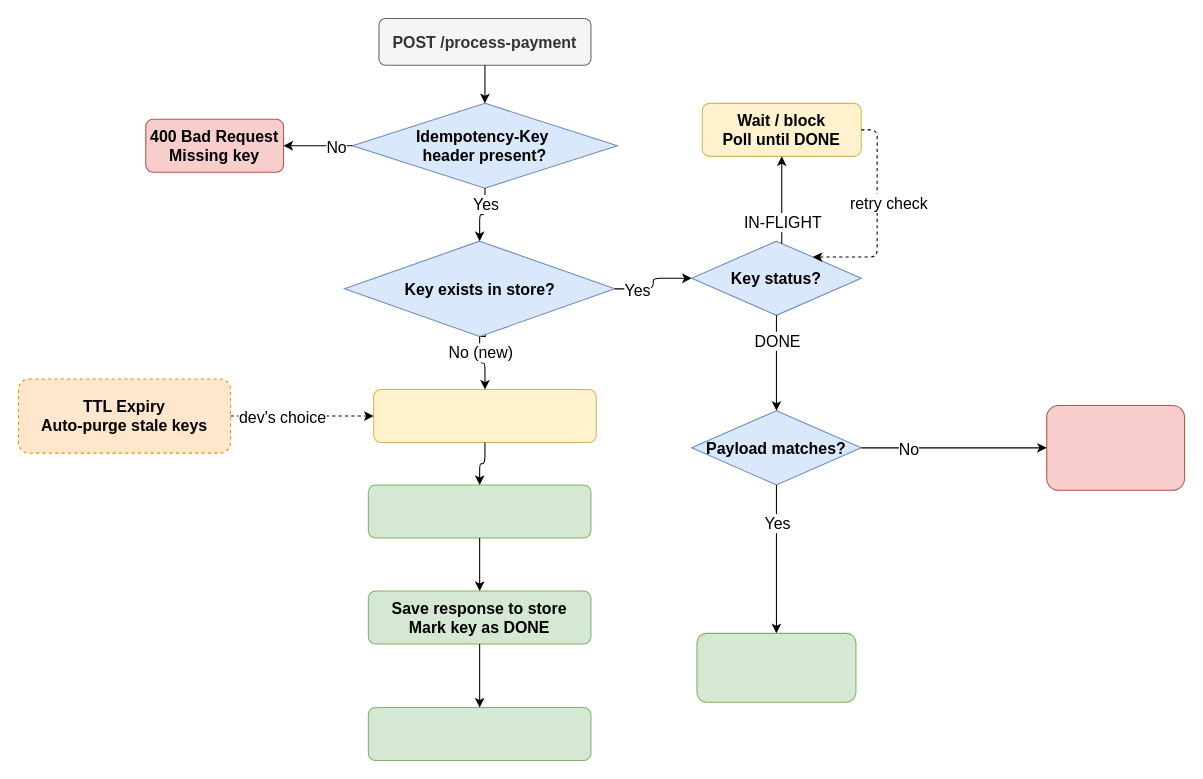
Some shapes in this 1203 by 779 pixel diagram are drawn without their labels. The centre of each missing label's shape, as x and y in pixels:
200 OK X-Cache-Hit: true: the point at 776,667
201 Created "Charged 100 GHS": the point at 479,733
422 Unprocessable Key conflict: the point at 1115,447
Mark key as IN-FLIGHT Lock entry in store: the point at 484,415
Process payment ~2s simulated delay: the point at 479,511
